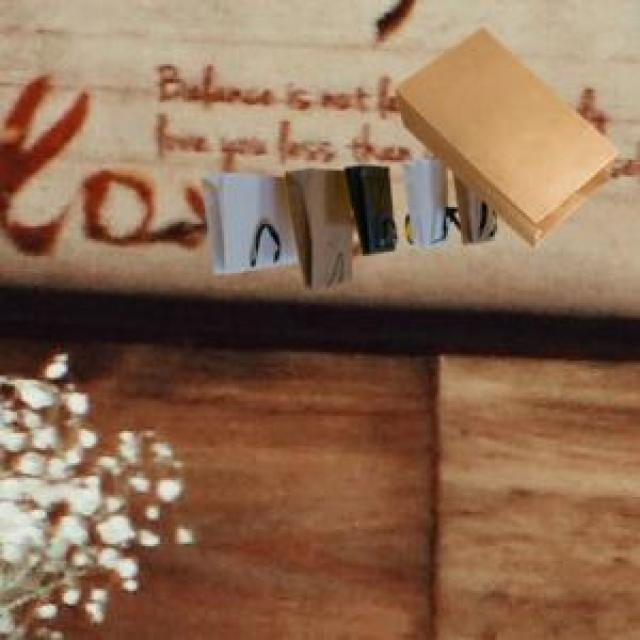paper: (394, 24, 614, 243), (196, 154, 491, 286)
